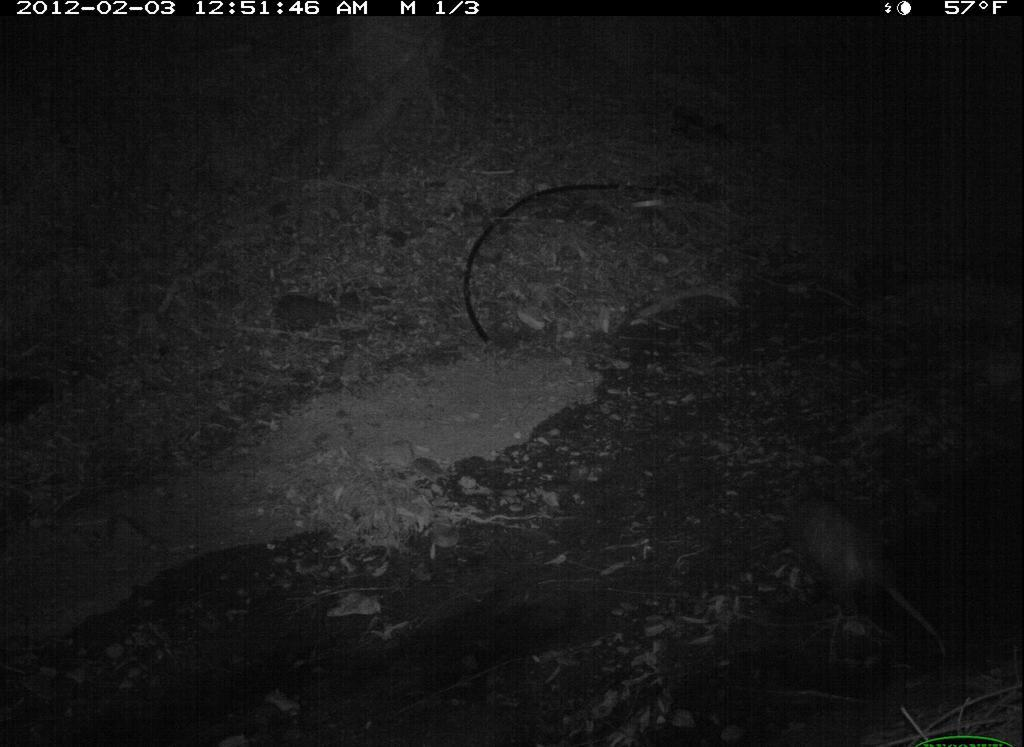opossum: (763, 455, 957, 690)
